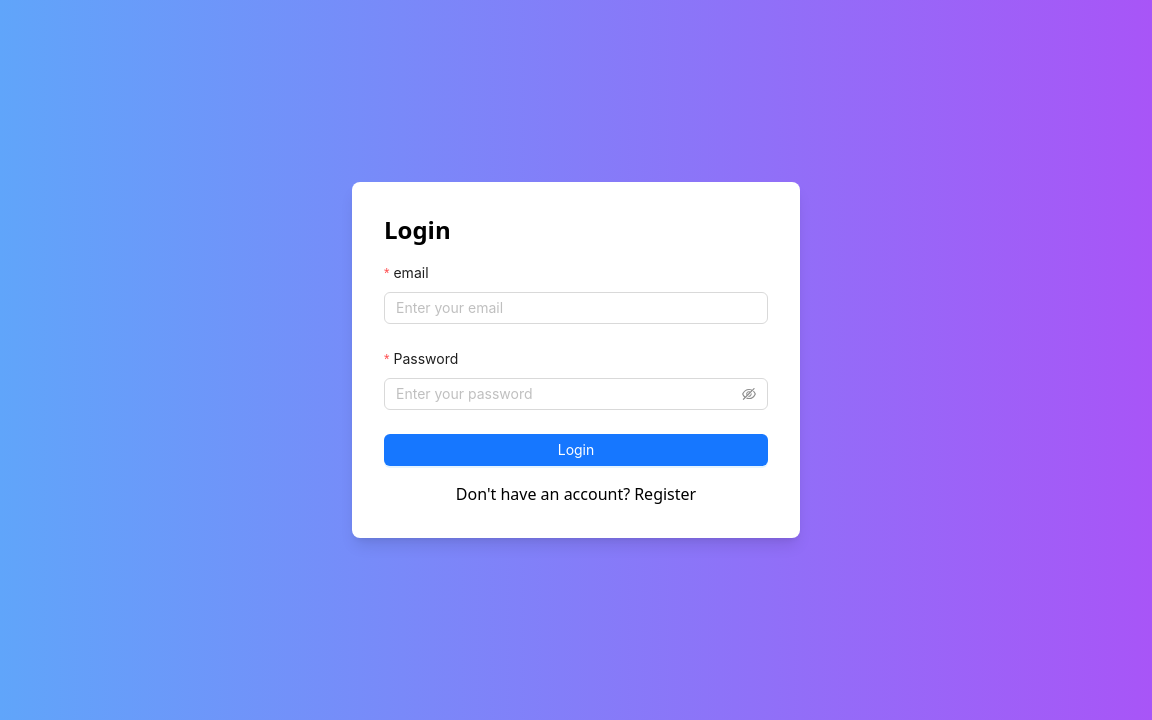
LoginRegister Component › should toggle to Login mode when clicked on 'Login'
This screenshot has width=1152, height=720.
Note: Switch to register mode
Click the text "Register".
click(665, 494)  # box [634, 482, 696, 506]
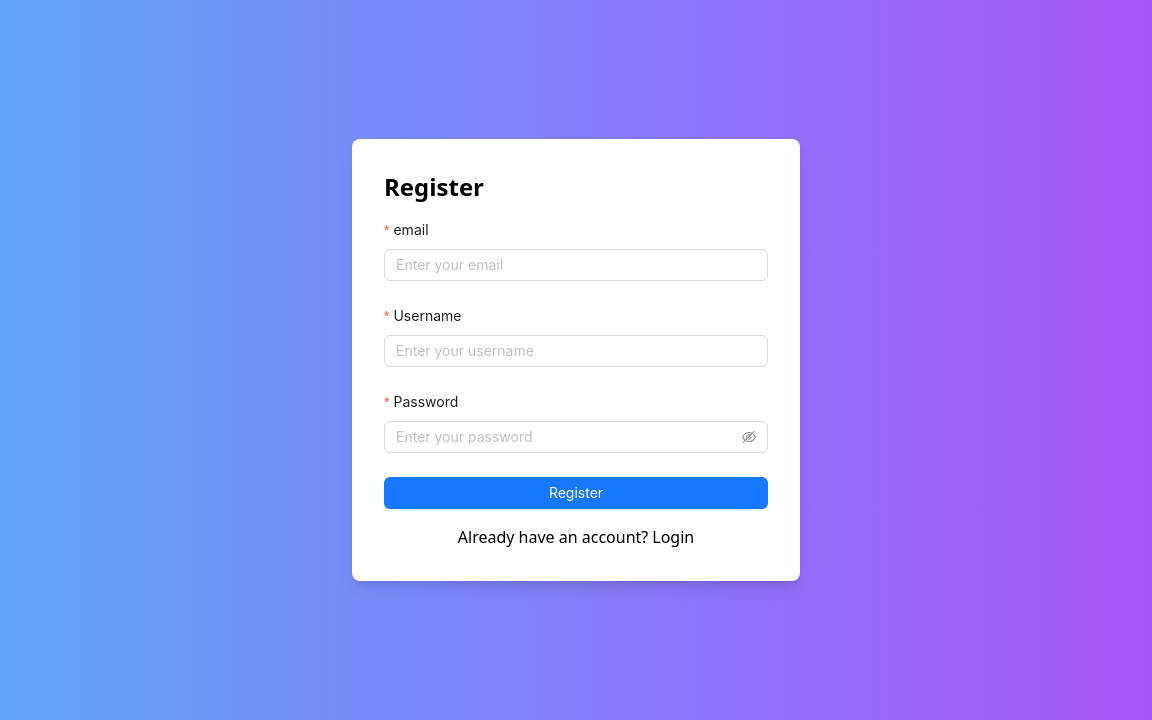
Note: Then switch back to login mode
Click the text "Login".
click(673, 537)  # box [652, 525, 694, 549]
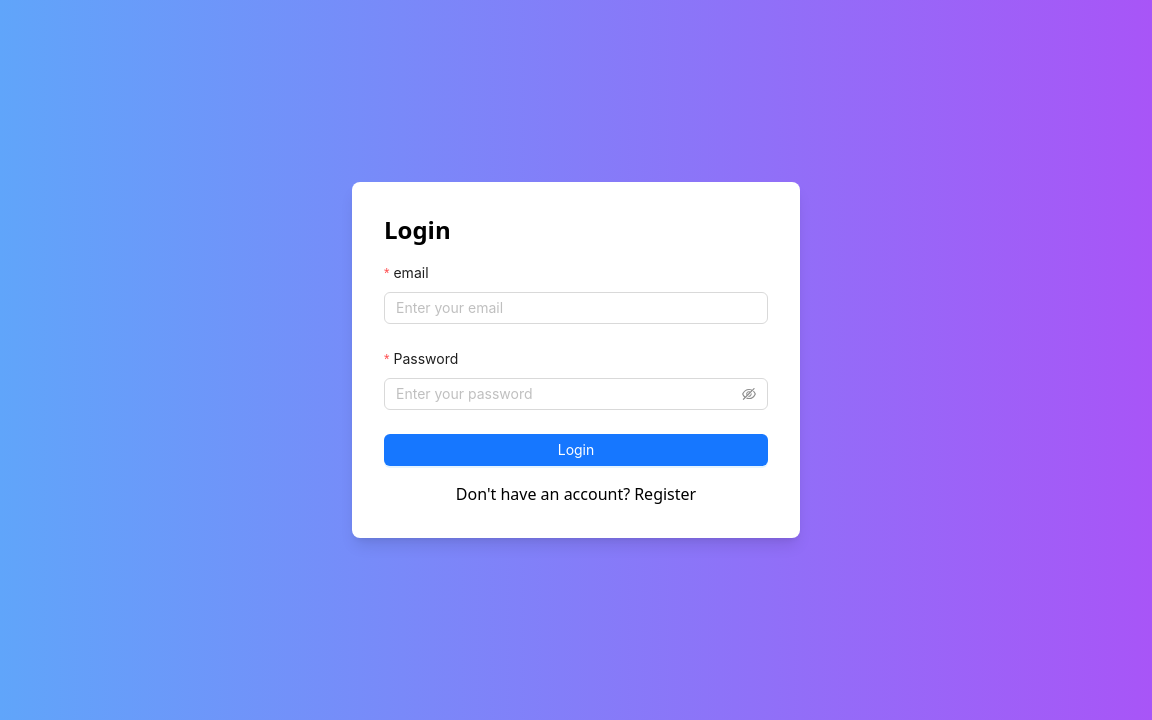
expect the heading "Login" is shown: met, box [384, 213, 451, 246]
expect the label with placeholder "Enter your username" is gone: met
